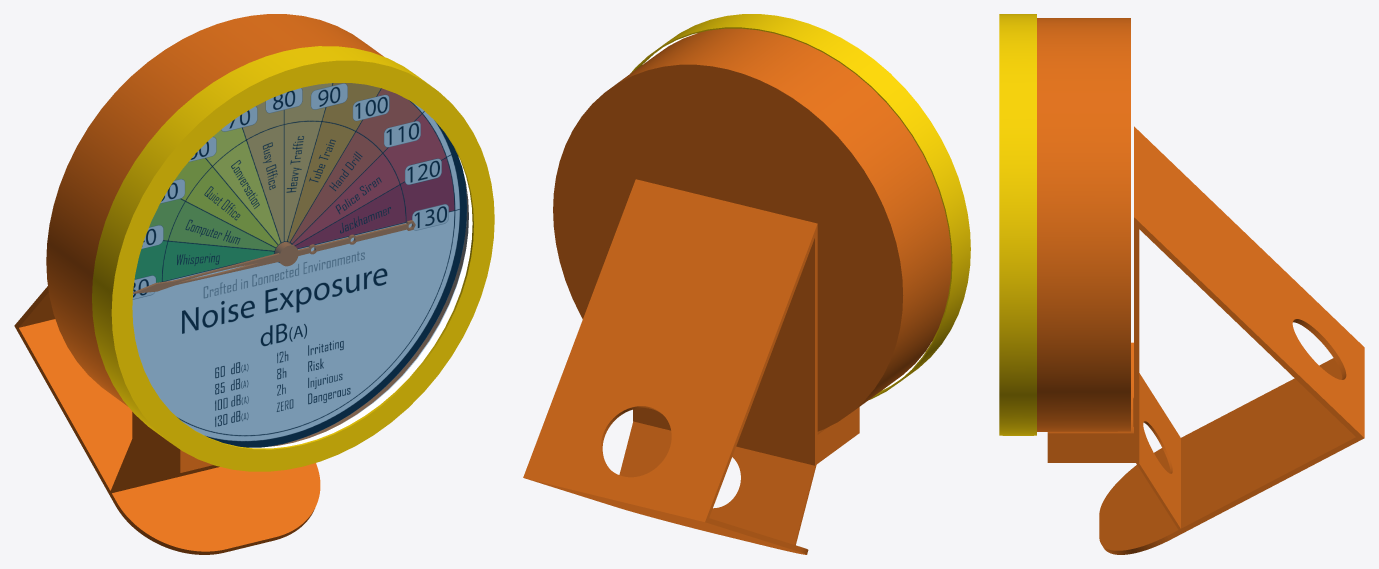
Rendered from Noise_Gauge_Blender.glb.
3 views of the same model, side by side, from view 1: azimuth 30°, elevation 25°; view 2: azimuth 150°, elevation 25°; view 3: azimuth 270°, elevation 25° (orthographic). The views are drawn at different scales.
Parts seen in each view (by area): view 1: Glass, DialGraphic, Dial_Cover, MainBody, GaugeStand, Pointer, Dial_Holder_2; view 2: MainBody, GaugeStand, Dial_Cover; view 3: GaugeStand, MainBody, Dial_Cover.
Part boxes in pixels (left/top/right/bottom): Glass: left=132, top=83, right=468, bottom=447; DialGraphic: left=132, top=83, right=466, bottom=447; Dial_Cover: left=92, top=46, right=494, bottom=471; MainBody: left=46, top=14, right=468, bottom=446; GaugeStand: left=14, top=286, right=320, bottom=554; Pointer: left=133, top=220, right=415, bottom=293; Dial_Holder_2: left=249, top=157, right=472, bottom=448; MainBody: left=553, top=28, right=951, bottom=431; GaugeStand: left=523, top=179, right=859, bottom=554; Dial_Cover: left=630, top=14, right=970, bottom=399; GaugeStand: left=1047, top=126, right=1364, bottom=554; MainBody: left=1037, top=18, right=1130, bottom=431; Dial_Cover: left=999, top=14, right=1036, bottom=435.
Size of the model in its own units: 0.157 by 0.2038 by 0.1359.
Materials: 6 (1 with a texture image).
